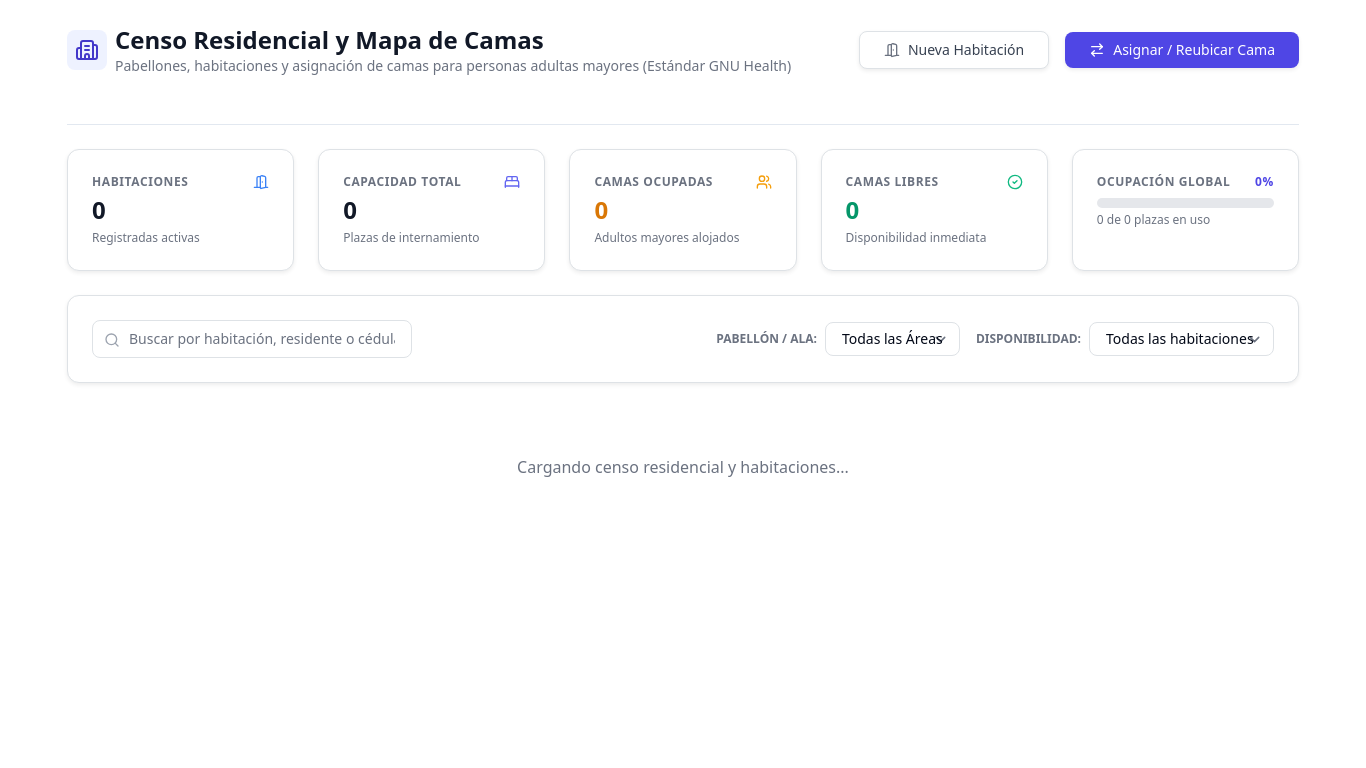
Test case: InpatientCensusPage › permite abrir el modal de nueva habitación
Step 1. Click the button "Nueva Habitación" → (954, 50), box [859,31,1049,69]
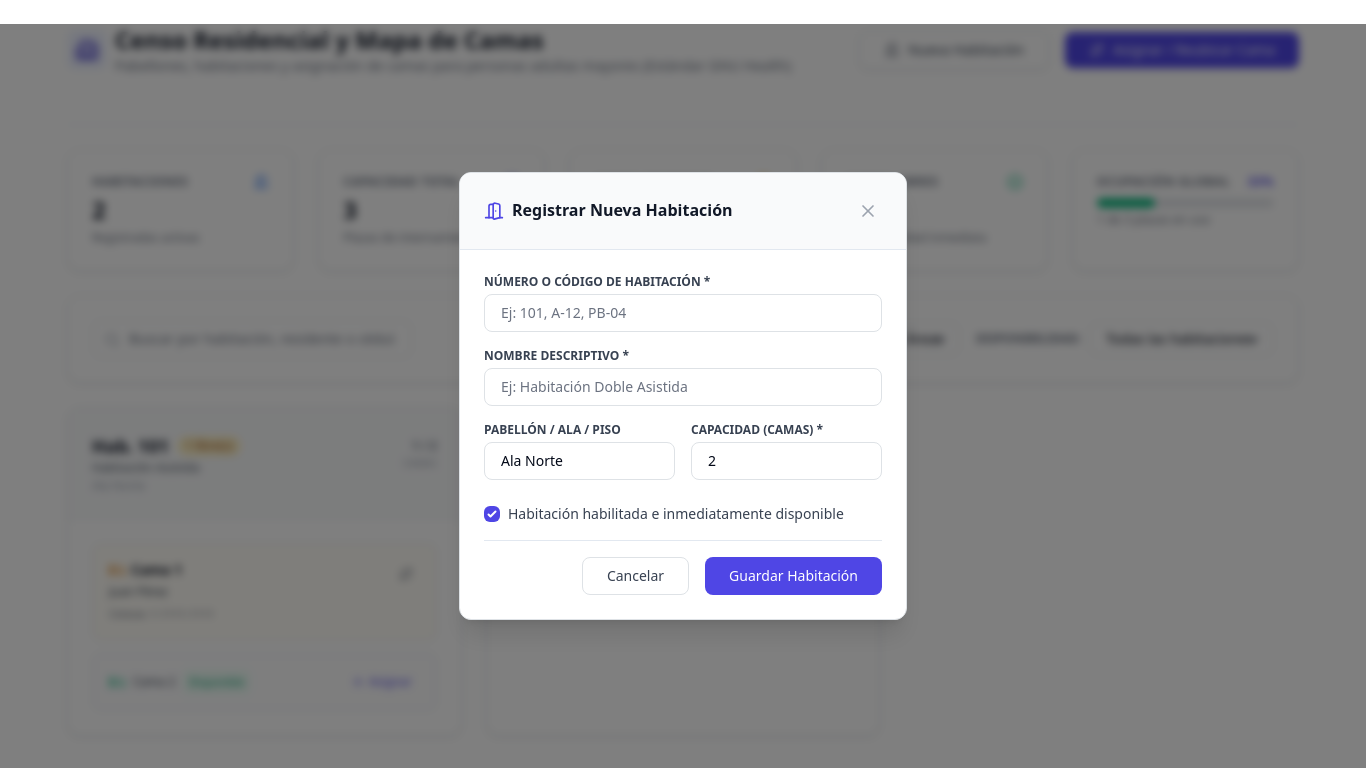
Expected: the heading "Registrar Nueva Habitación" is shown, [512,201,733,221]
Expected: the field with placeholder "Ej: 101, A-12, PB-04" is shown, [484,294,882,332]
